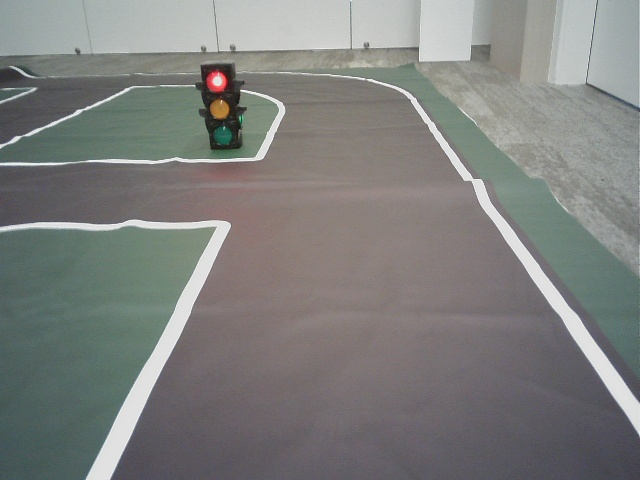red: (203, 64, 235, 145)
